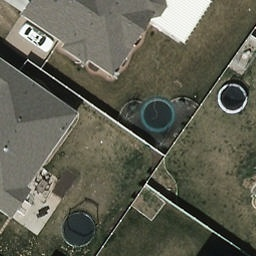car: (19, 23, 55, 51)
